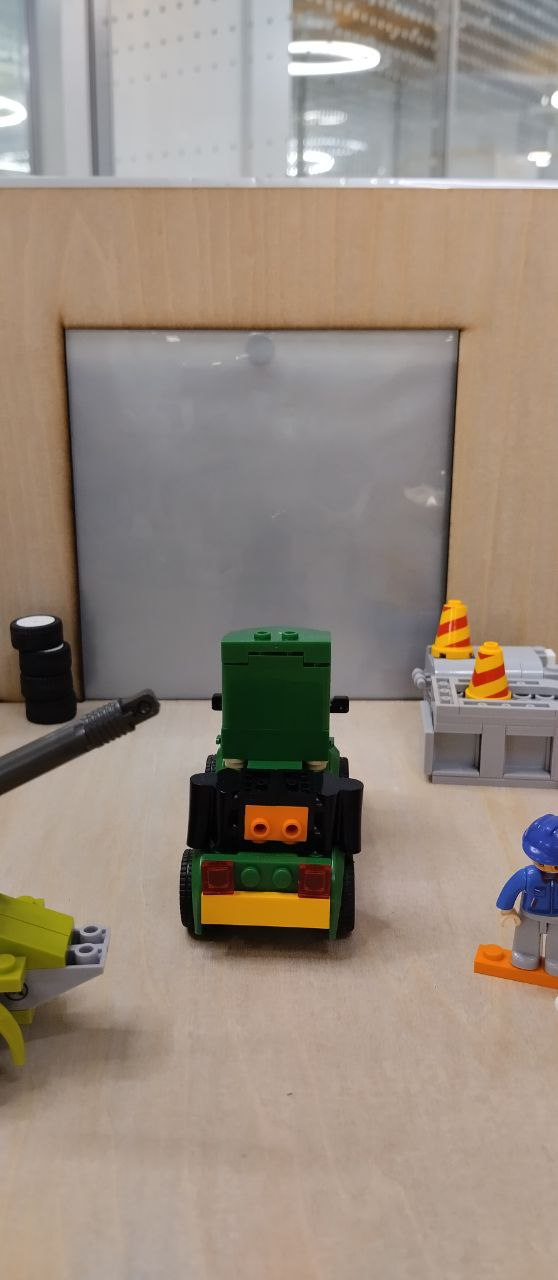Cone: (465, 640, 511, 703), (429, 595, 474, 658)
Truck: (180, 628, 361, 949)
